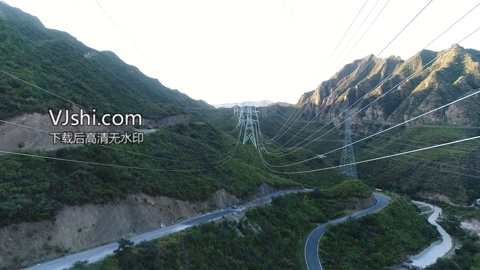tower_up: (339, 111, 363, 180), (236, 93, 264, 149)
